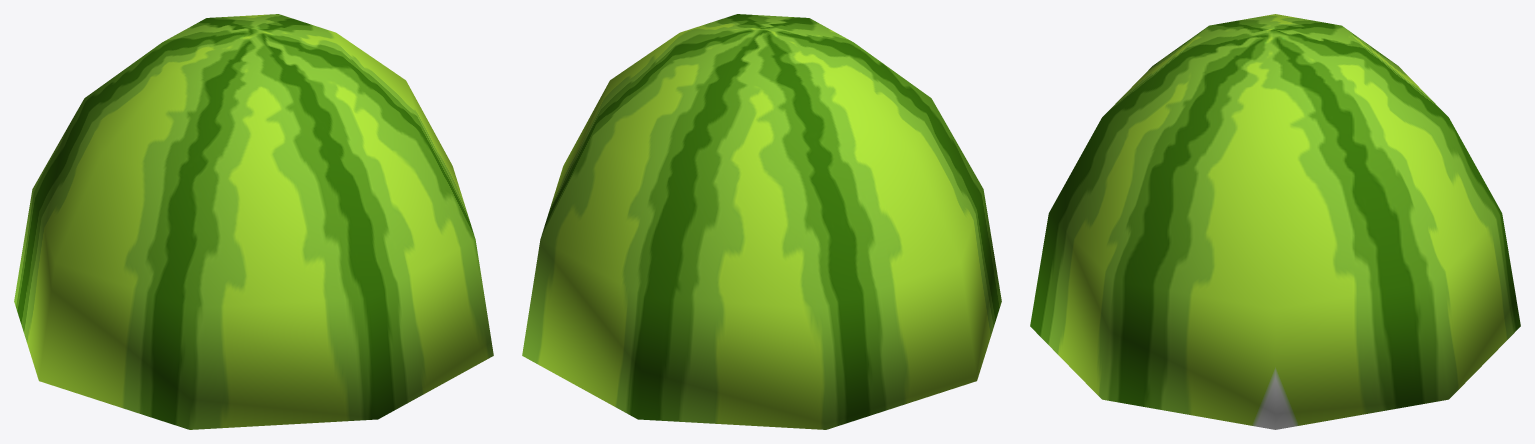
Rendered from halfwatermelon.fbx.
3 views of the same model, side by side, from view 1: azimuth 30°, elevation 25°; view 2: azimuth 150°, elevation 25°; view 3: azimuth 270°, elevation 25° (orthographic).
Parts seen in each view (by area): view 1: Sphere; view 2: Sphere; view 3: Sphere.
Part boxes in pixels (left/top/right/bottom): Sphere: left=14, top=14, right=493, bottom=429; Sphere: left=522, top=14, right=1001, bottom=429; Sphere: left=1030, top=14, right=1520, bottom=429.
Size of the model in its own units: 2 by 1.33 by 2.
